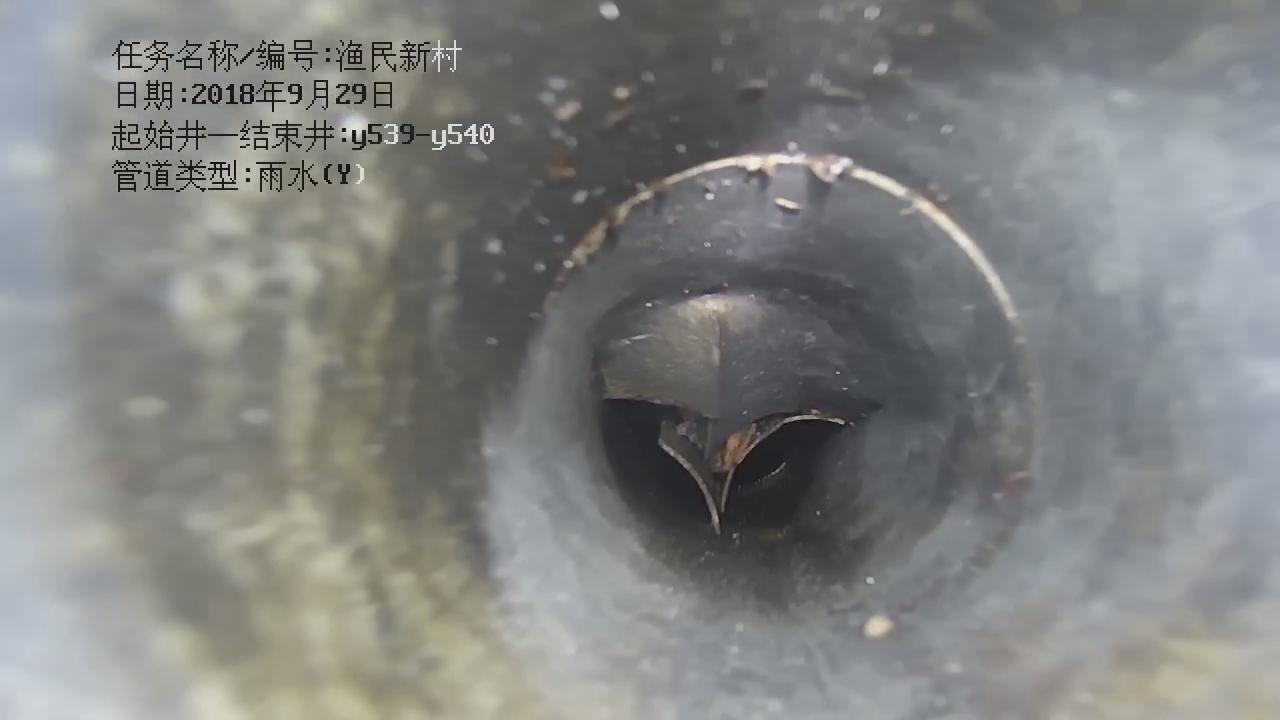PL: (592, 377, 878, 532)
